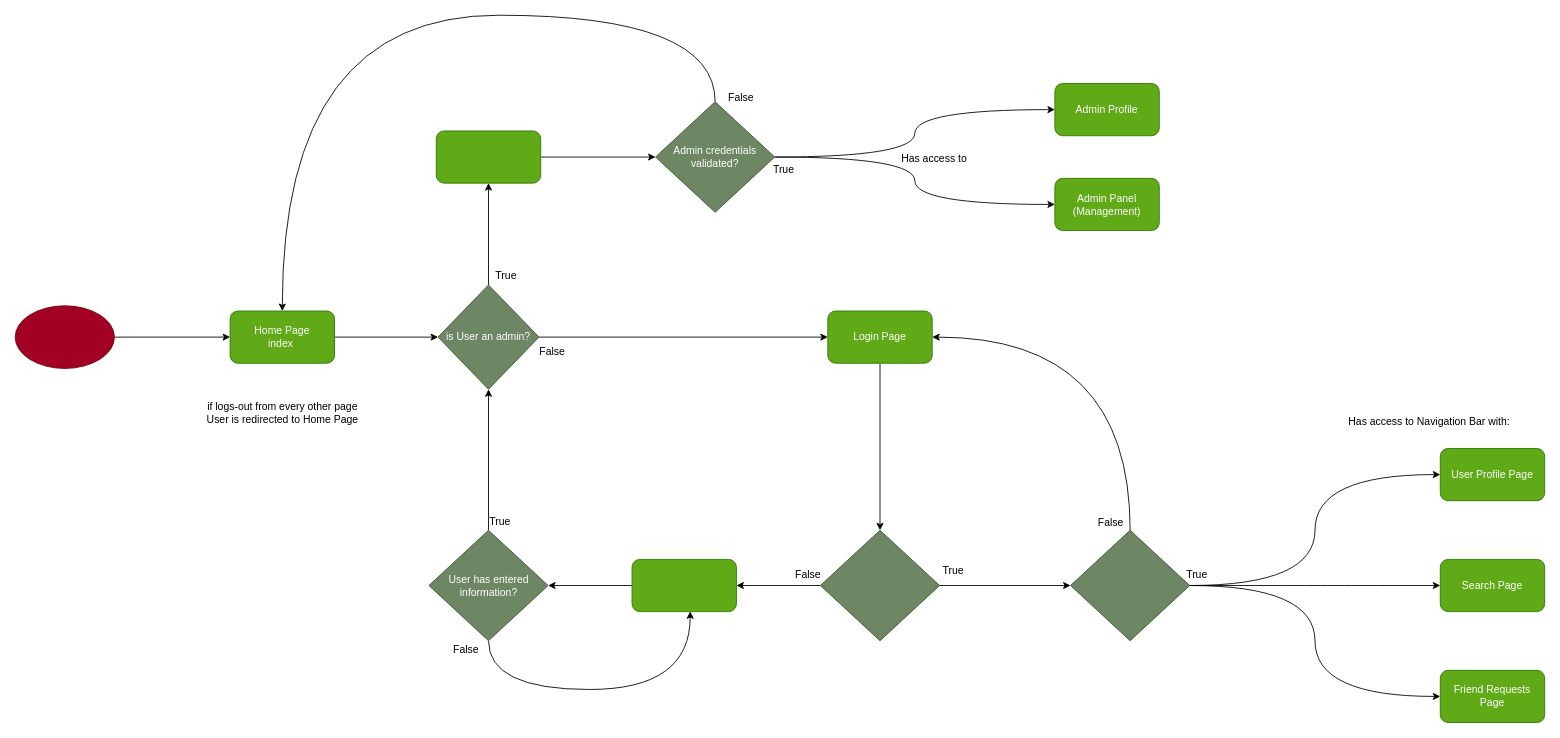
The diagram is 1560 pixels wide and 738 high, and some of its shapes have lost their labels. Each missing label, with the centre of its shape:
"Admin Login" belongs at point (488, 156).
"Signup Page" belongs at point (683, 585).
"START Social Network" belongs at point (64, 336).
"User credentials validated?" belongs at point (1130, 585).
"User has an account?" belongs at point (880, 585).
